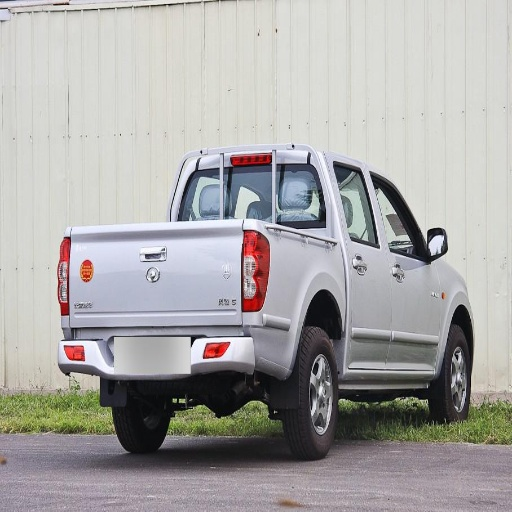back_bumper: (60, 328, 264, 378)
back_right_door: (334, 162, 390, 370)
trunk: (65, 222, 341, 375)
